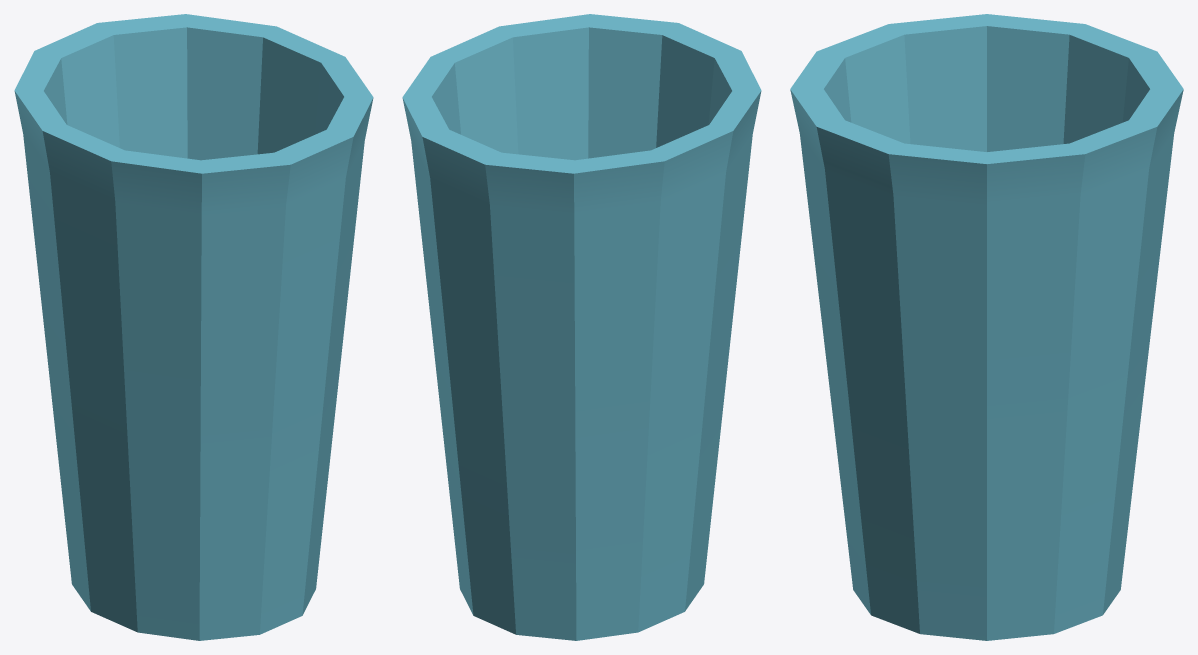
File: cup1.fbx
3 renders of one model, left to right at view 1: azimuth 30°, elevation 25°; view 2: azimuth 150°, elevation 25°; view 3: azimuth 270°, elevation 25°, orthographic.
Parts seen in each view (by area): view 1: pCylinder3; view 2: pCylinder3; view 3: pCylinder3.
Part boxes in pixels (x1,y1,x2,y2): pCylinder3: [14, 14, 373, 640]; pCylinder3: [402, 14, 761, 640]; pCylinder3: [790, 14, 1183, 640].
Bounding box in the file's own units: 0.5217 × 0.8111 × 0.5777.
